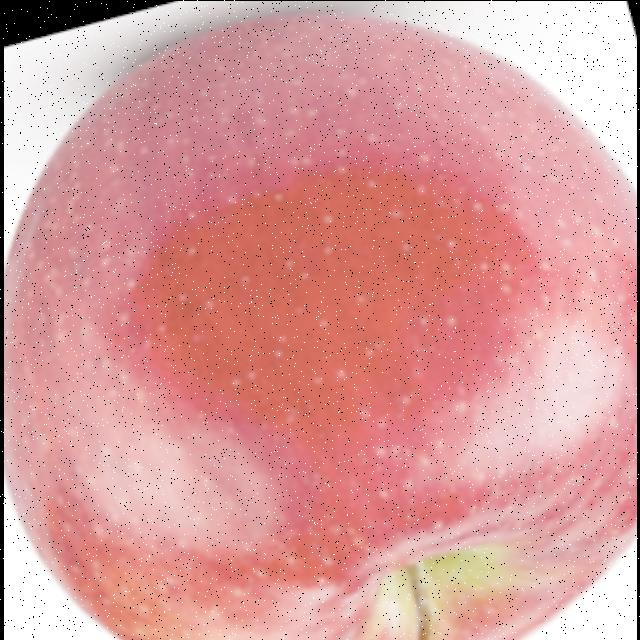Apel Segar: (4, 5, 637, 640)
